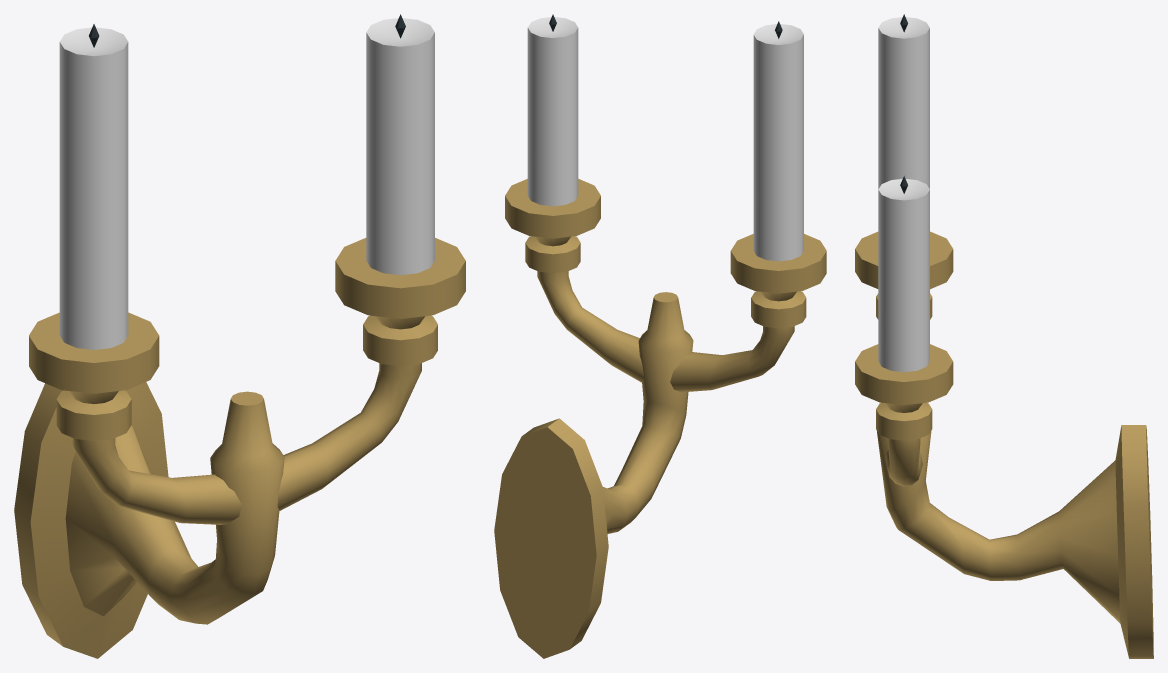
The model's file is wall_candles.fbx.
The picture shows the model from 3 angles, left to right: view 1: azimuth 30°, elevation 25°; view 2: azimuth 150°, elevation 25°; view 3: azimuth 270°, elevation 25°; orthographic projection. The views are drawn at different scales.
Parts seen in each view (by area): view 1: wall_candles; view 2: wall_candles; view 3: wall_candles.
Part boxes in pixels (x1,y1,x2,y2): wall_candles: (14, 14, 465, 658); wall_candles: (494, 14, 826, 658); wall_candles: (855, 14, 1153, 658).
Size of the model in its own units: 0.7653 by 1.36 by 0.6273.
